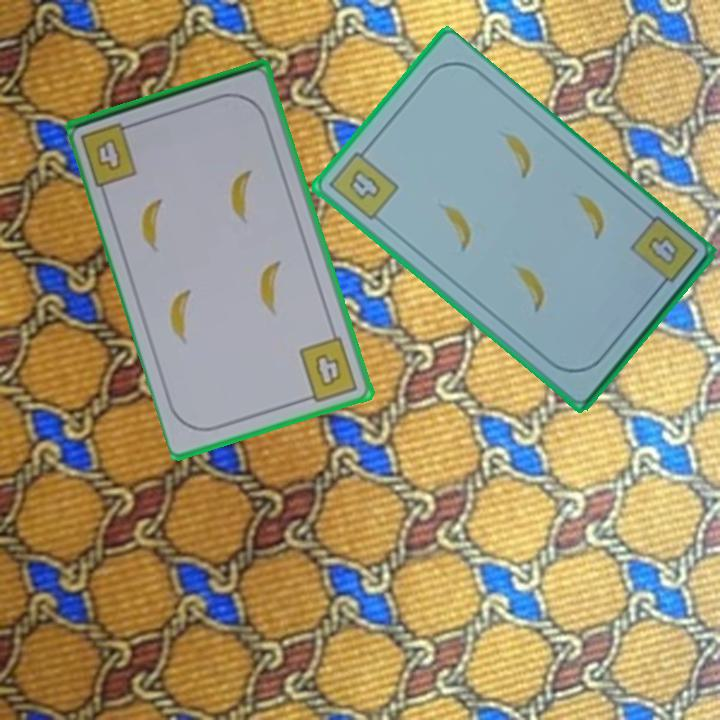4b: (325, 142, 402, 224), (626, 213, 701, 295), (295, 333, 361, 405), (77, 118, 142, 189)
